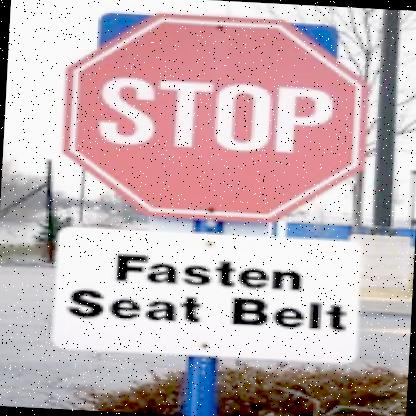stop: (54, 7, 370, 225)
